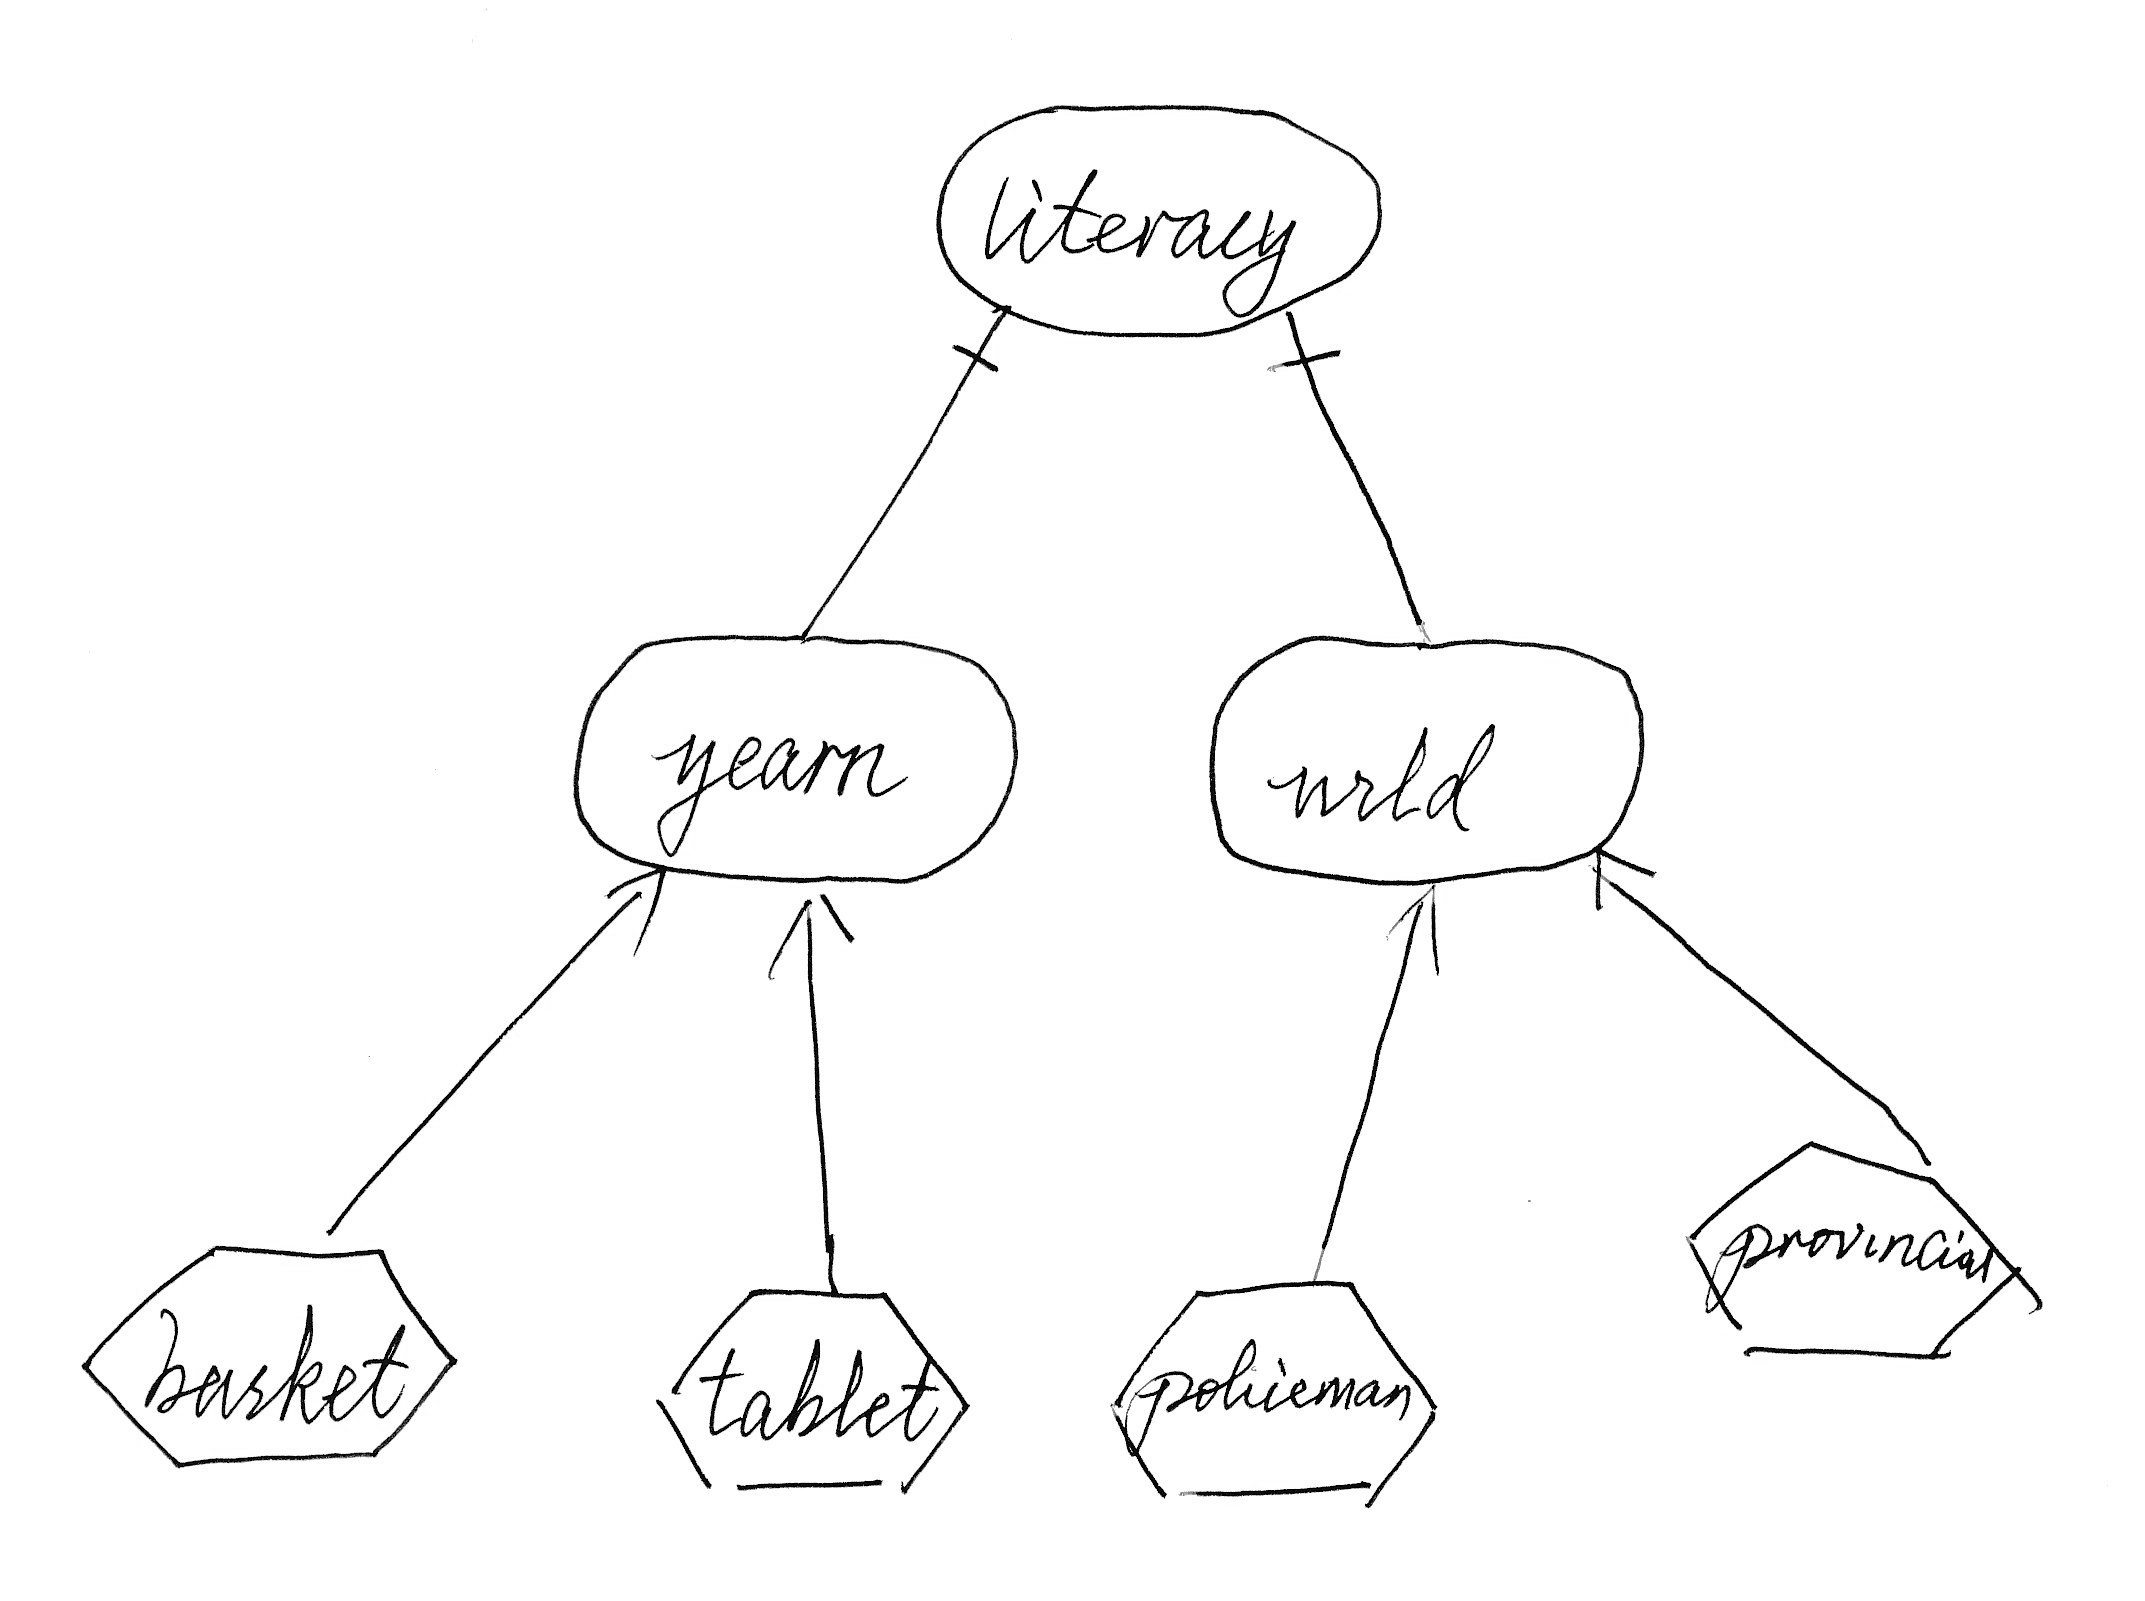and: (1259, 321, 1358, 400), (945, 313, 1017, 404)
arrow: (751, 883, 866, 1001), (1363, 886, 1459, 996), (585, 863, 676, 964), (1580, 843, 1666, 928)
goal: (555, 609, 1029, 895), (1192, 621, 1654, 900), (925, 91, 1397, 357)
task: (59, 1229, 471, 1485), (1673, 1128, 2066, 1389), (1093, 1266, 1451, 1525), (644, 1271, 980, 1512)
